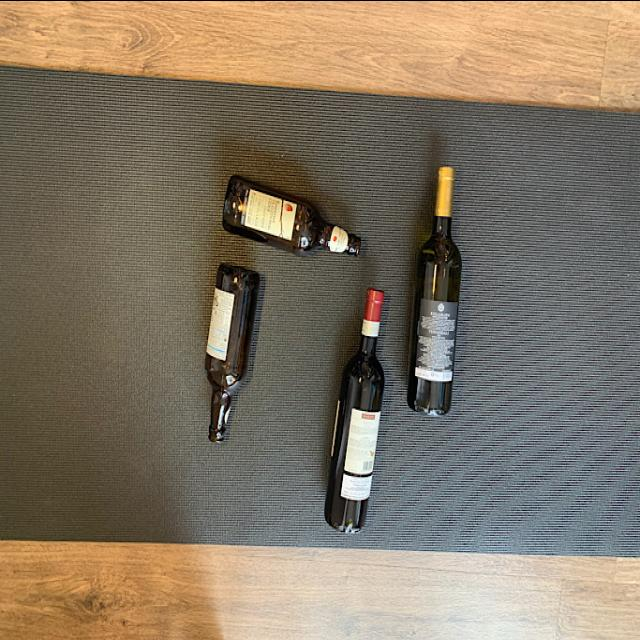litter: (311, 283, 389, 536), (406, 155, 466, 416), (222, 172, 362, 264), (200, 260, 262, 450)
